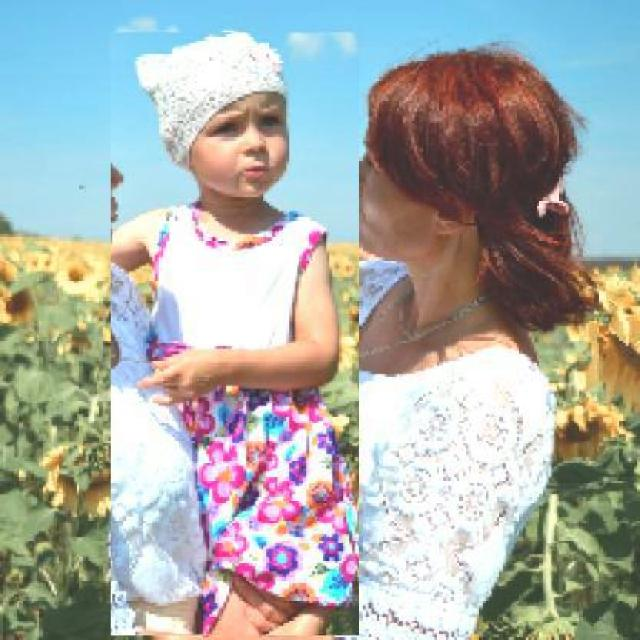child: (109, 32, 360, 637)
